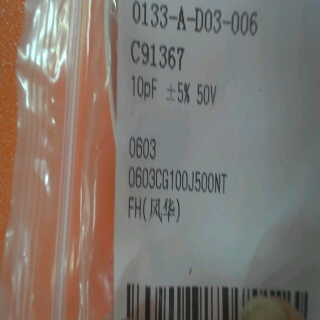10pF: (129, 69, 161, 102)
